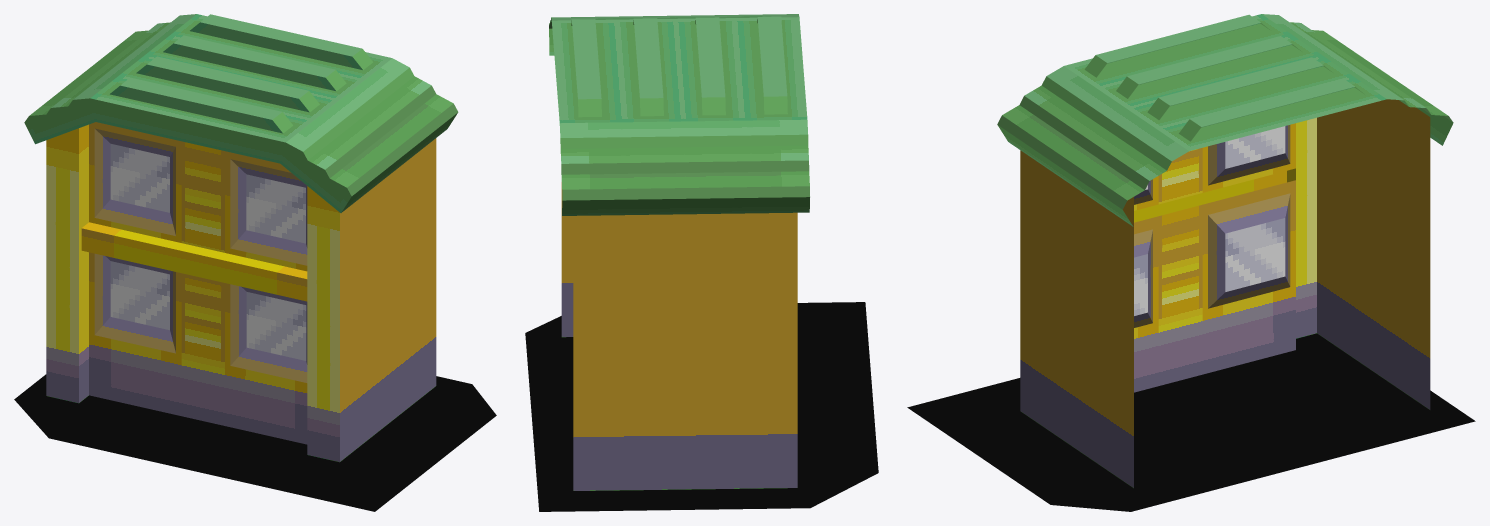
Rendered from saffron_city_house_2_lev1.glb.
3 views of the same model, side by side, from view 1: azimuth 30°, elevation 25°; view 2: azimuth 150°, elevation 25°; view 3: azimuth 270°, elevation 25° (orthographic). The views are drawn at different scales.
Visible parts, largest first — view 1: saffron_city_house_2_lev1; view 2: saffron_city_house_2_lev1; view 3: saffron_city_house_2_lev1.
Boxes of the visible parts, <box> form: saffron_city_house_2_lev1: <box>14,14,496,511</box>; saffron_city_house_2_lev1: <box>525,14,878,511</box>; saffron_city_house_2_lev1: <box>907,14,1475,511</box>.
Bounding box in the file's own units: 15.12 × 12.76 × 19.01.
3 materials, 3 textured.
